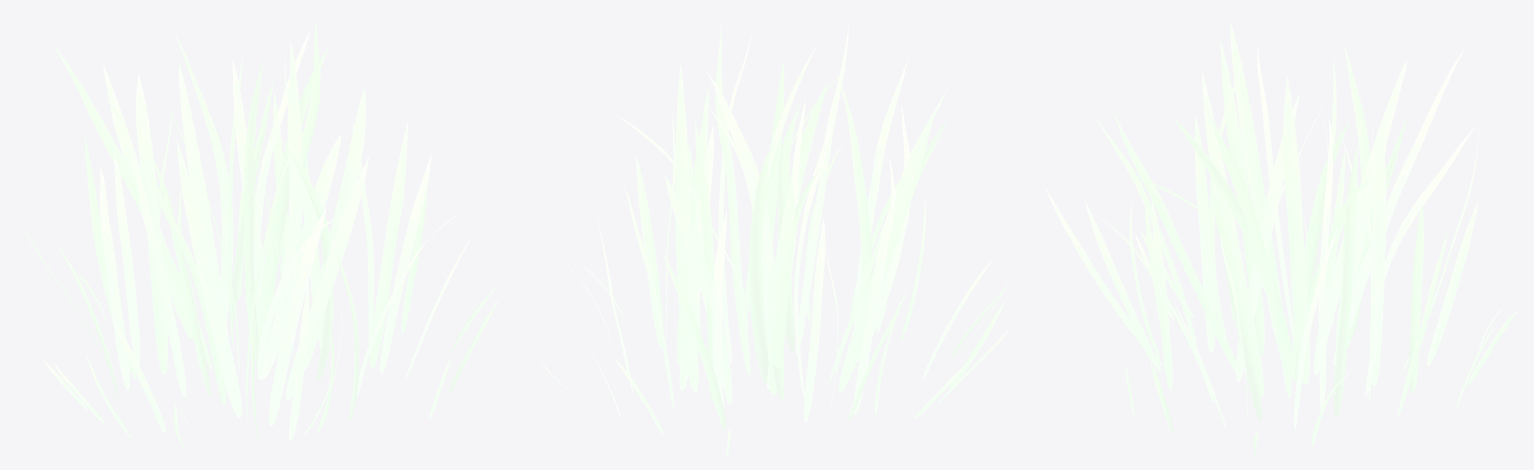
3 renders of one model, left to right at view 1: azimuth 30°, elevation 25°; view 2: azimuth 150°, elevation 25°; view 3: azimuth 270°, elevation 25°, orthographic. The views are drawn at different scales.
Visible parts, largest first — view 1: SM_Bullrush_03_LOD0; view 2: SM_Bullrush_03_LOD0; view 3: SM_Bullrush_03_LOD0.
Boxes of the visible parts, x1,y1,x2,y2 form: SM_Bullrush_03_LOD0: (18, 22, 499, 454); SM_Bullrush_03_LOD0: (540, 23, 1012, 455); SM_Bullrush_03_LOD0: (1045, 22, 1518, 455).
Bounding box in the file's own units: 1.11 × 0.8443 × 1.09.
1 material, 1 textured.
